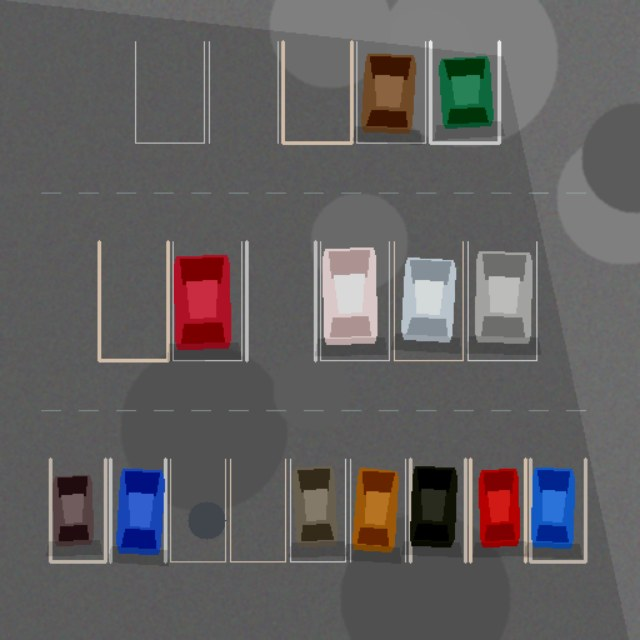space-empty: (99, 241, 168, 360), (246, 241, 315, 360), (135, 41, 204, 143), (209, 41, 278, 143), (282, 41, 351, 143), (170, 459, 225, 561), (230, 459, 285, 561)
space-occupied: (172, 241, 241, 360), (320, 241, 389, 360), (394, 241, 462, 360), (468, 241, 536, 360), (356, 41, 425, 143), (430, 41, 499, 143), (50, 459, 105, 561), (110, 459, 165, 561), (290, 459, 345, 561), (350, 459, 405, 561), (410, 459, 465, 561), (470, 459, 525, 561), (530, 459, 585, 561)
